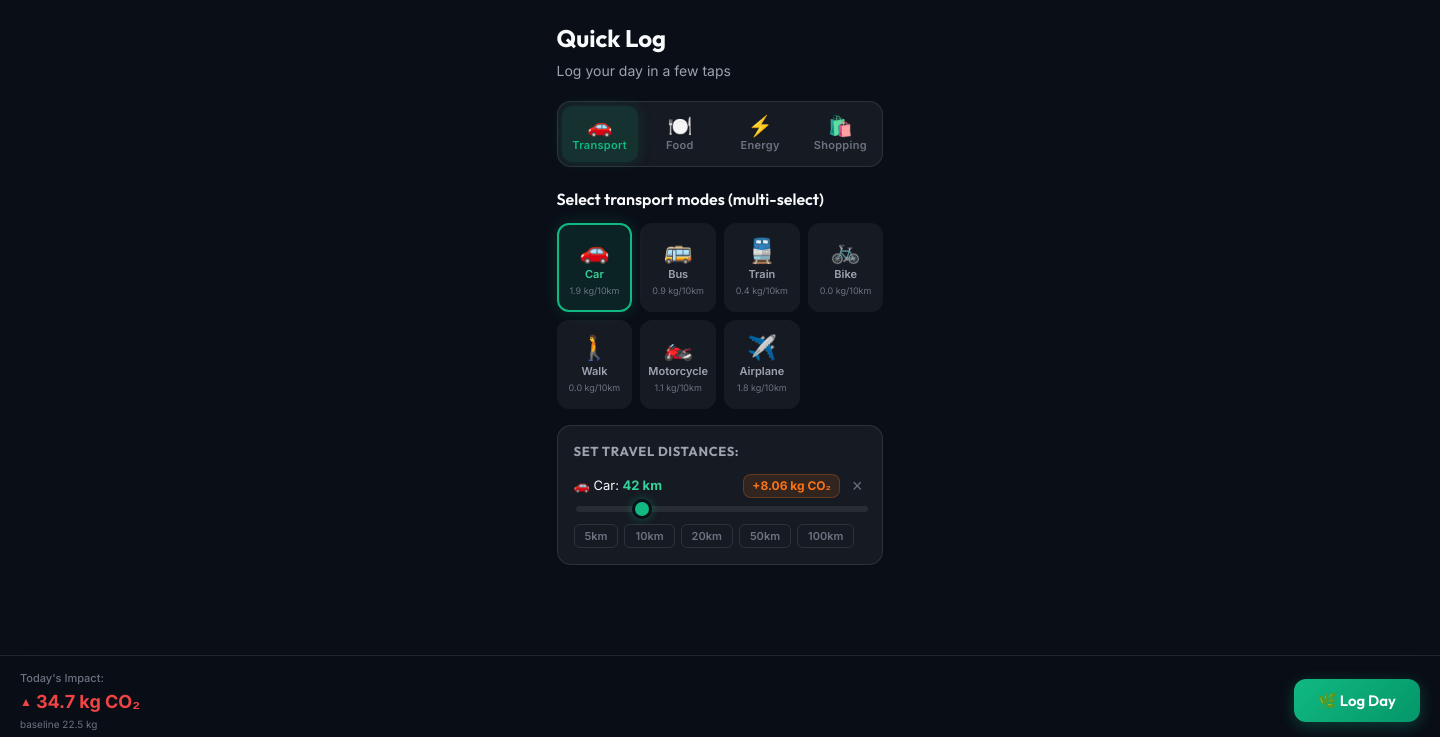
Test: QuickLog Component › pre-populates the inputs when existingLog is provided
expect the slider named "Car distance in kilometers" holds "42": met, box [576,506,868,512]
Note: Switch to Food and check
Click the tab "🍽️ Food" at x=680, y=134, box [642,106,718,162]
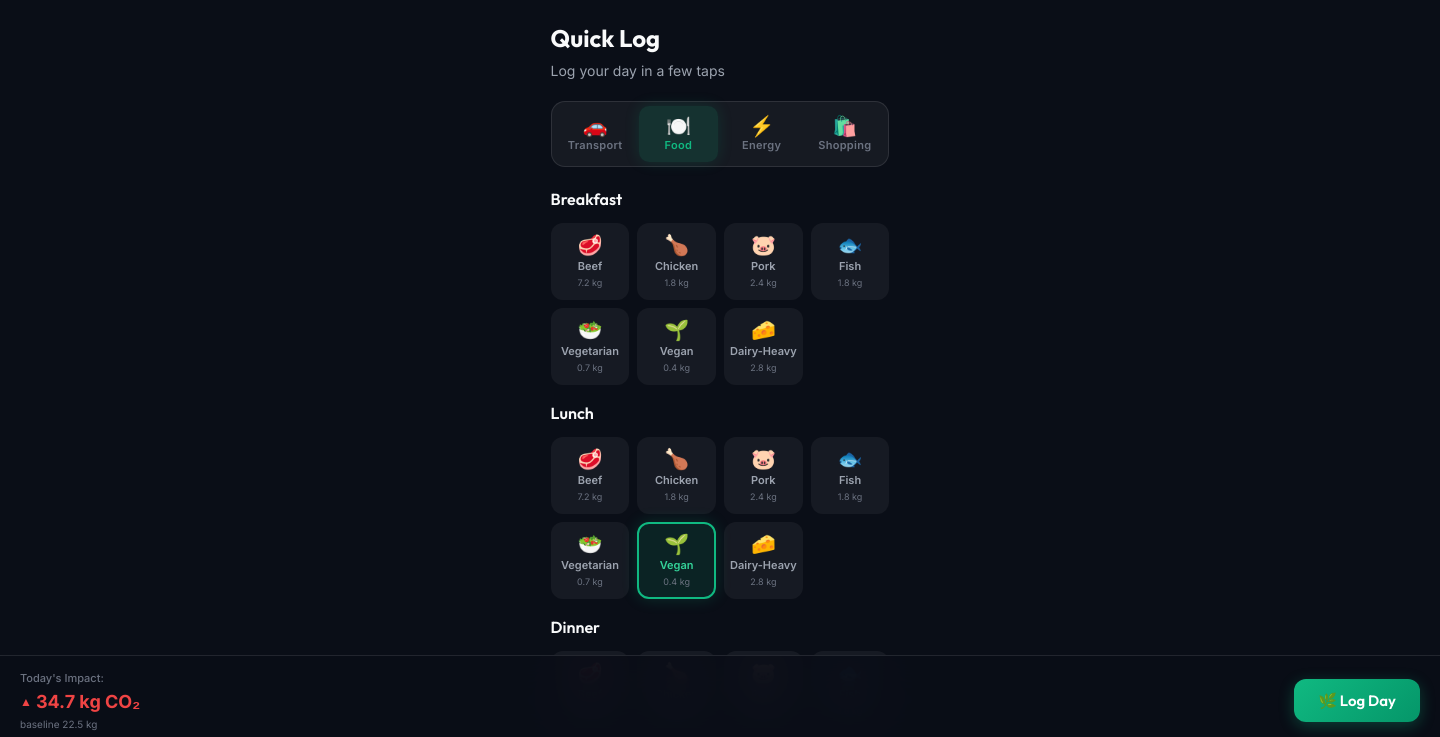
Note: Switch to Energy and check
Click the tab "⚡ Energy" at x=762, y=134, box [722,106,801,162]
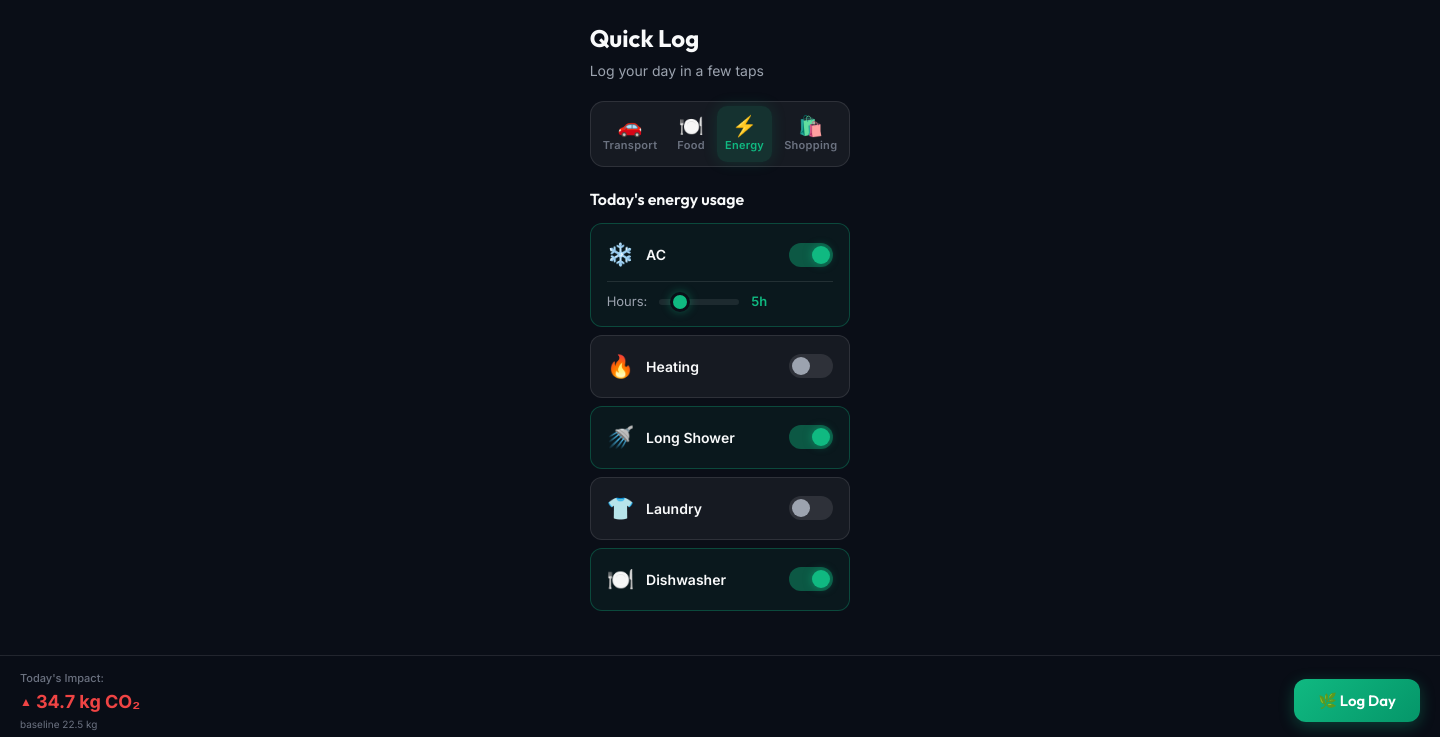
expect the slider named "AC hours" holds "5": met, box [659,299,739,305]
Note: Switch to Shopping and check
Click the tab "🛍️ Shopping" at x=811, y=134, box [776,106,845,162]
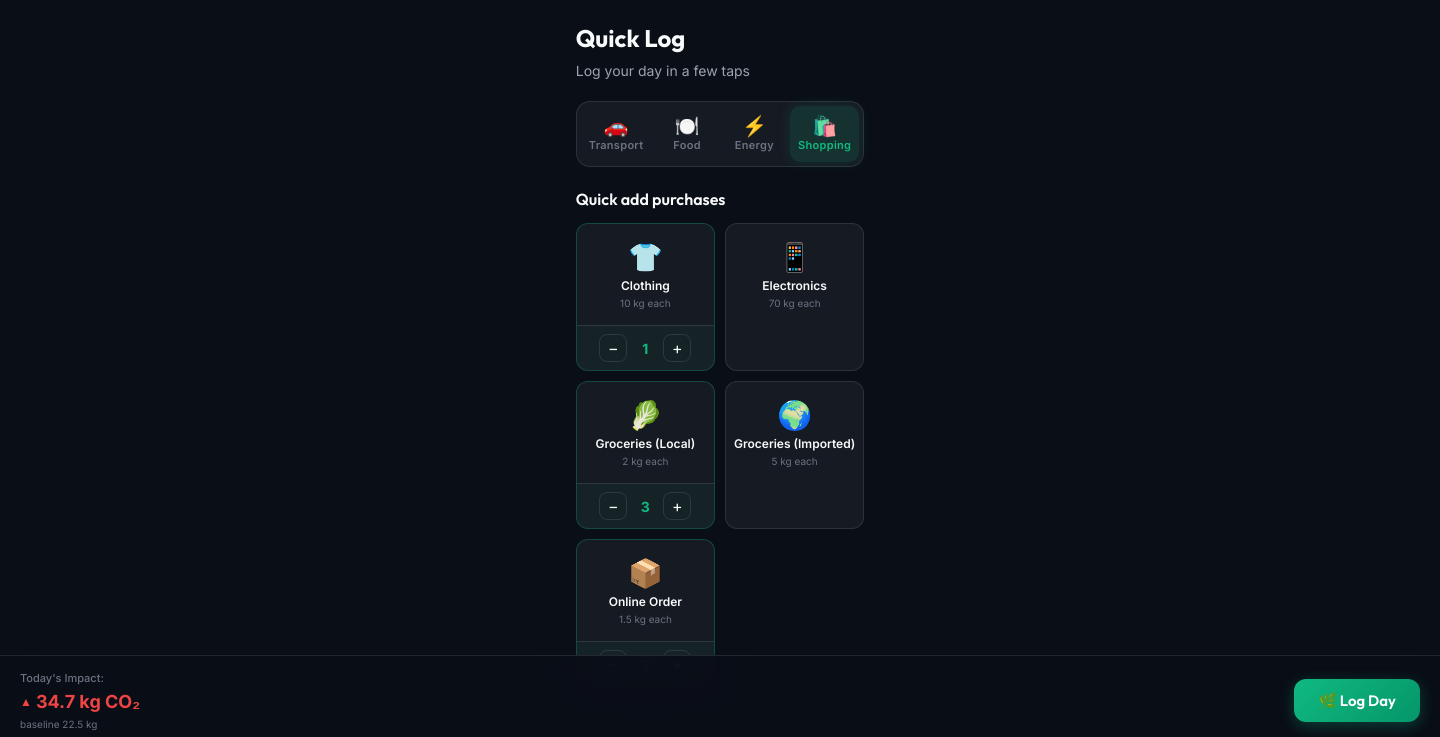
expect the text named "3 items" is shown: met, box [641,498,650,514]
